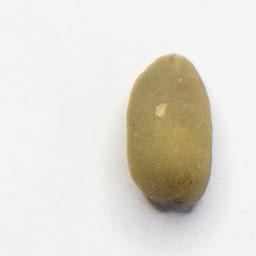peaberry: (121, 48, 216, 212)
